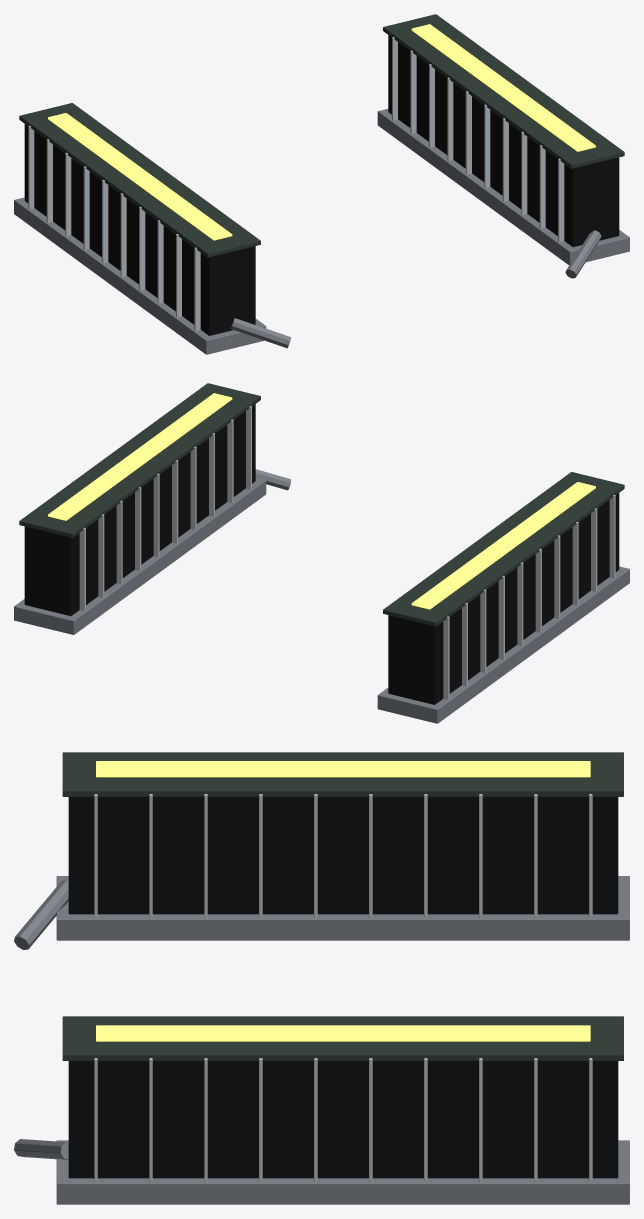
The model's file is wraith_cooling_grid.fbx.
3 views of the same model, one above another, from view 1: azimuth 30°, elevation 25°; view 2: azimuth 150°, elevation 25°; view 3: azimuth 270°, elevation 25° (orthographic). The views are drawn at different scales.
Parts seen in each view (by area): view 1: Cooling_Grid; view 2: Cooling_Grid; view 3: Cooling_Grid.
Part boxes in pixels (left/top/right/bottom): Cooling_Grid: left=14, top=14, right=629, bottom=354; Cooling_Grid: left=14, top=383, right=629, bottom=723; Cooling_Grid: left=14, top=752, right=629, bottom=1204.
Bounding box in the file's own units: 124 × 28.85 × 105.
